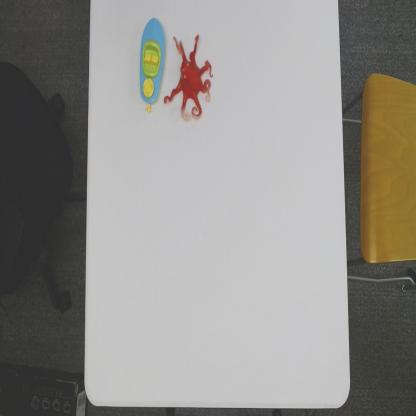Boat: (138, 17, 167, 115)
Octopus: (164, 33, 214, 123)
